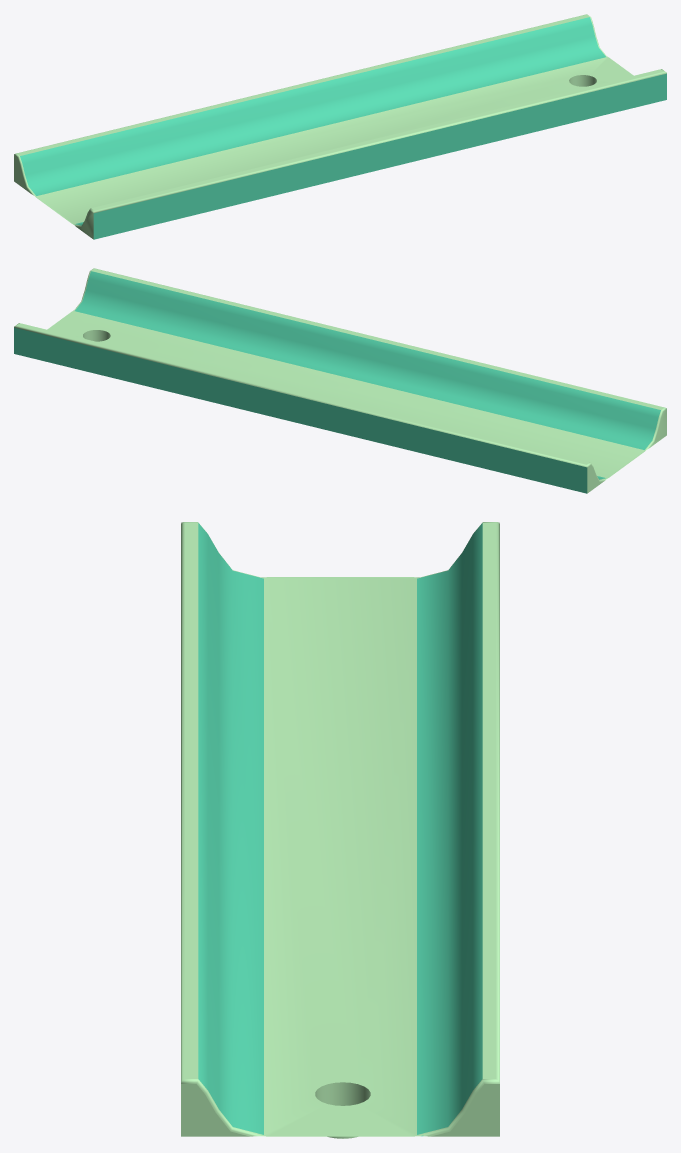
Rendered from Ground_01.fbx.
3 renders of one model, top to bottom at view 1: azimuth 30°, elevation 25°; view 2: azimuth 150°, elevation 25°; view 3: azimuth 270°, elevation 25°, orthographic. The views are drawn at different scales.
Parts seen in each view (by area): view 1: Ground_01; view 2: Ground_01; view 3: Ground_01.
Boxes of the visible parts, x1=… form: Ground_01: x1=14, y1=14, x2=666, y2=239; Ground_01: x1=14, y1=268, x2=666, y2=493; Ground_01: x1=181, y1=522, x2=499, y2=1138.
Bounding box in the file's own units: 603 × 44.72 × 145.
